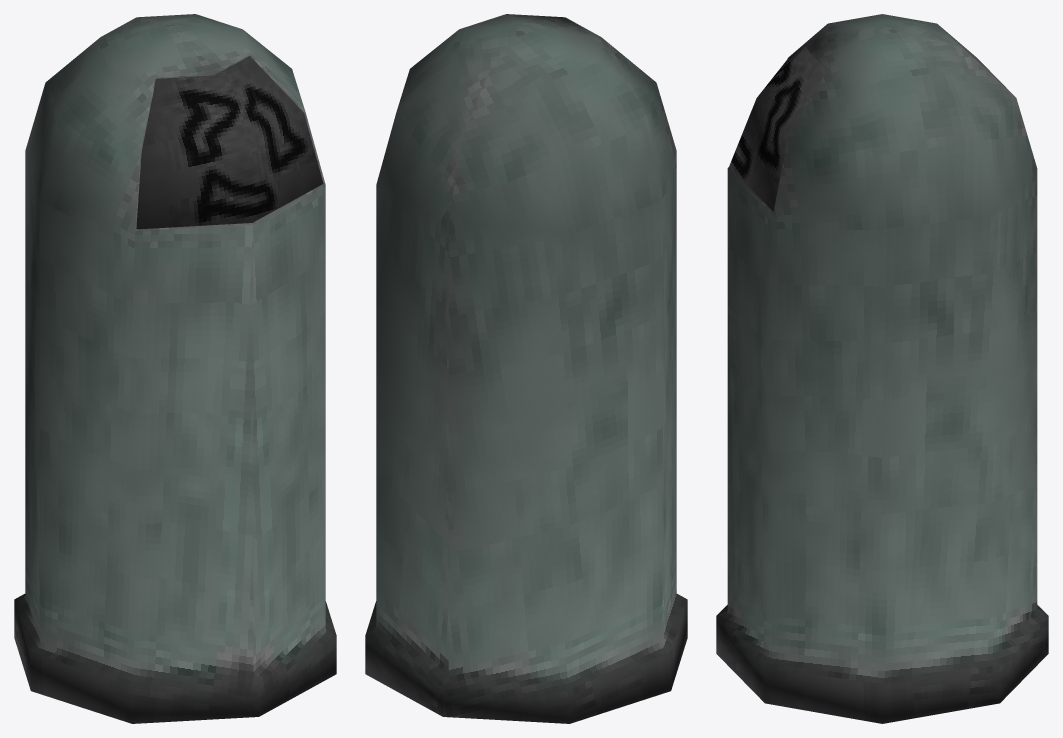
The model's file is Trashcan.glb.
3 renders of one model, left to right at view 1: azimuth 30°, elevation 25°; view 2: azimuth 150°, elevation 25°; view 3: azimuth 270°, elevation 25°, orthographic.
Parts seen in each view (by area): view 1: Trashcan.001, Trashcan; view 2: Trashcan.001; view 3: Trashcan.001, Trashcan.
Boxes of the visible parts, x1=… form: Trashcan.001: x1=14, y1=14, x2=336, y2=723; Trashcan: x1=136, y1=56, x2=323, y2=229; Trashcan.001: x1=365, y1=14, x2=687, y2=723; Trashcan.001: x1=716, y1=14, x2=1048, y2=723; Trashcan: x1=729, y1=30, x2=827, y2=211.
Size of what is drawn, in the model's own units: 0.5374 by 1.12 by 0.5374.
Materials: 1 (1 with a texture image).
